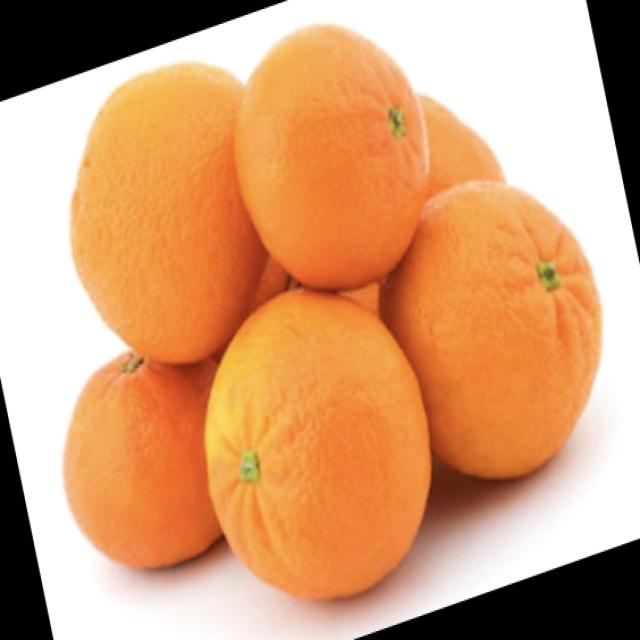matang: (206, 290, 428, 601), (381, 184, 601, 474), (73, 61, 269, 363), (239, 24, 429, 290), (61, 349, 215, 574), (420, 92, 510, 197)
